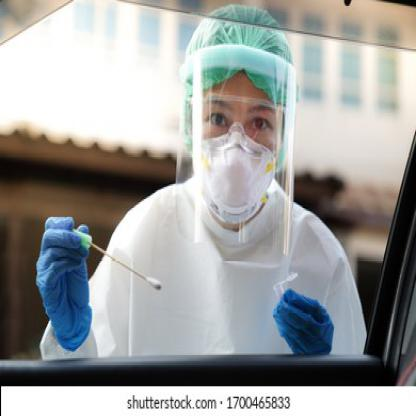with_gloves: (35, 217, 94, 351), (274, 289, 334, 354)
